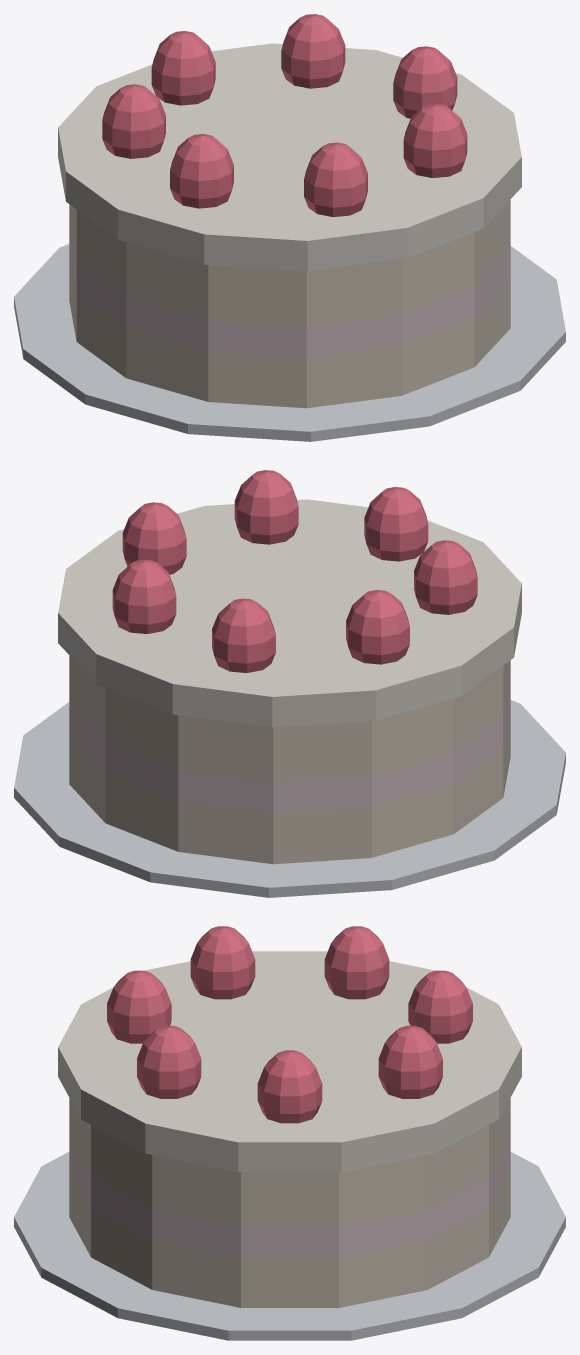
The model's file is StrawberryCake.fbx.
3 renders of one model, top to bottom at view 1: azimuth 30°, elevation 25°; view 2: azimuth 150°, elevation 25°; view 3: azimuth 270°, elevation 25°, orthographic.
Parts seen in each view (by area): view 1: Prop_StrawberryCake; view 2: Prop_StrawberryCake; view 3: Prop_StrawberryCake.
Boxes of the visible parts, left/top/right/bottom form: Prop_StrawberryCake: left=14, top=14, right=565, bottom=441; Prop_StrawberryCake: left=14, top=470, right=565, bottom=897; Prop_StrawberryCake: left=14, top=926, right=565, bottom=1340.
Size of the model in its own units: 0.4875 by 0.24 by 0.5.
